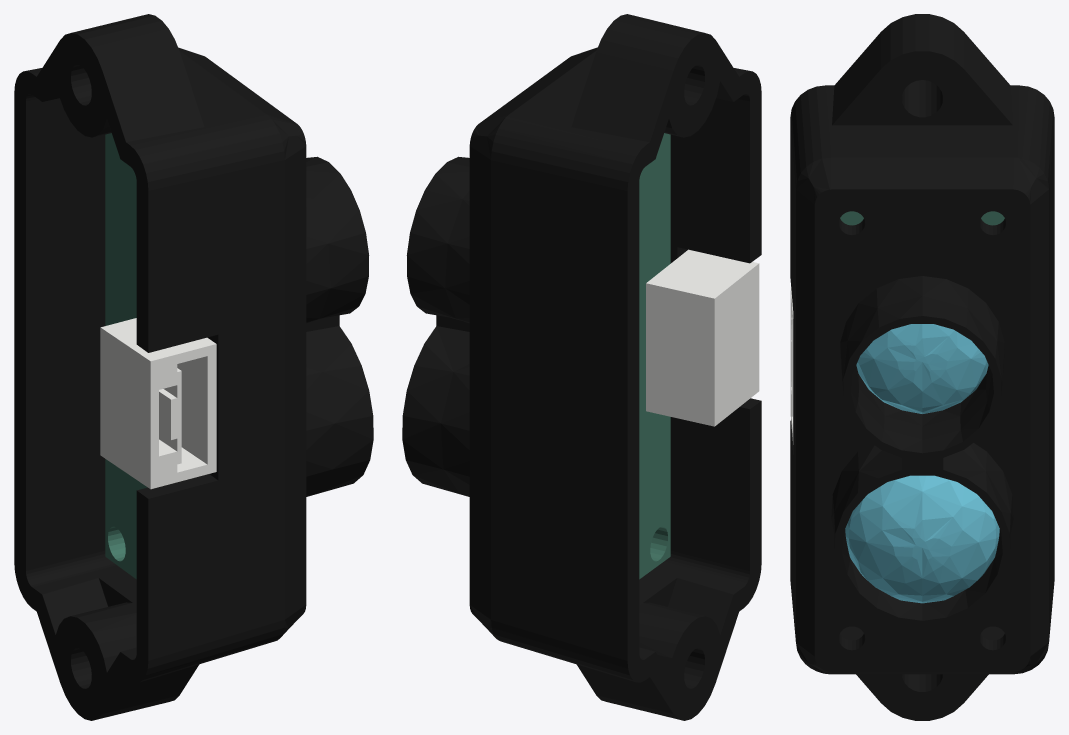
Rendered from tfmini_s.glb.
3 views of the same model, side by side, from view 1: azimuth 30°, elevation 25°; view 2: azimuth 150°, elevation 25°; view 3: azimuth 270°, elevation 25° (orthographic).
Visible parts, largest first — view 1: rgb_0.01_0.01_0.01, rgb_0.92_0.92_0.90, rgb_0.06_0.18_0.13; view 2: rgb_0.01_0.01_0.01, rgb_0.92_0.92_0.90, rgb_0.06_0.18_0.13; view 3: rgb_0.01_0.01_0.01, rgb_0.15_0.55_0.70, rgb_0.92_0.92_0.90, rgb_0.06_0.18_0.13.
Part boxes in pixels (x1=…): rgb_0.01_0.01_0.01: x1=14, y1=14, x2=373, y2=720; rgb_0.92_0.92_0.90: x1=100, y1=318, x2=216, y2=489; rgb_0.06_0.18_0.13: x1=105, y1=133, x2=147, y2=579; rgb_0.01_0.01_0.01: x1=402, y1=14, x2=761, y2=720; rgb_0.92_0.92_0.90: x1=646, y1=249, x2=759, y2=426; rgb_0.06_0.18_0.13: x1=639, y1=133, x2=670, y2=579; rgb_0.01_0.01_0.01: x1=790, y1=14, x2=1054, y2=720; rgb_0.15_0.55_0.70: x1=845, y1=324, x2=999, y2=603; rgb_0.92_0.92_0.90: x1=790, y1=287, x2=793, y2=444; rgb_0.06_0.18_0.13: x1=840, y1=211, x2=1004, y2=225.
Bounding box in the file's own units: 0.016 × 0.042 × 0.015.
